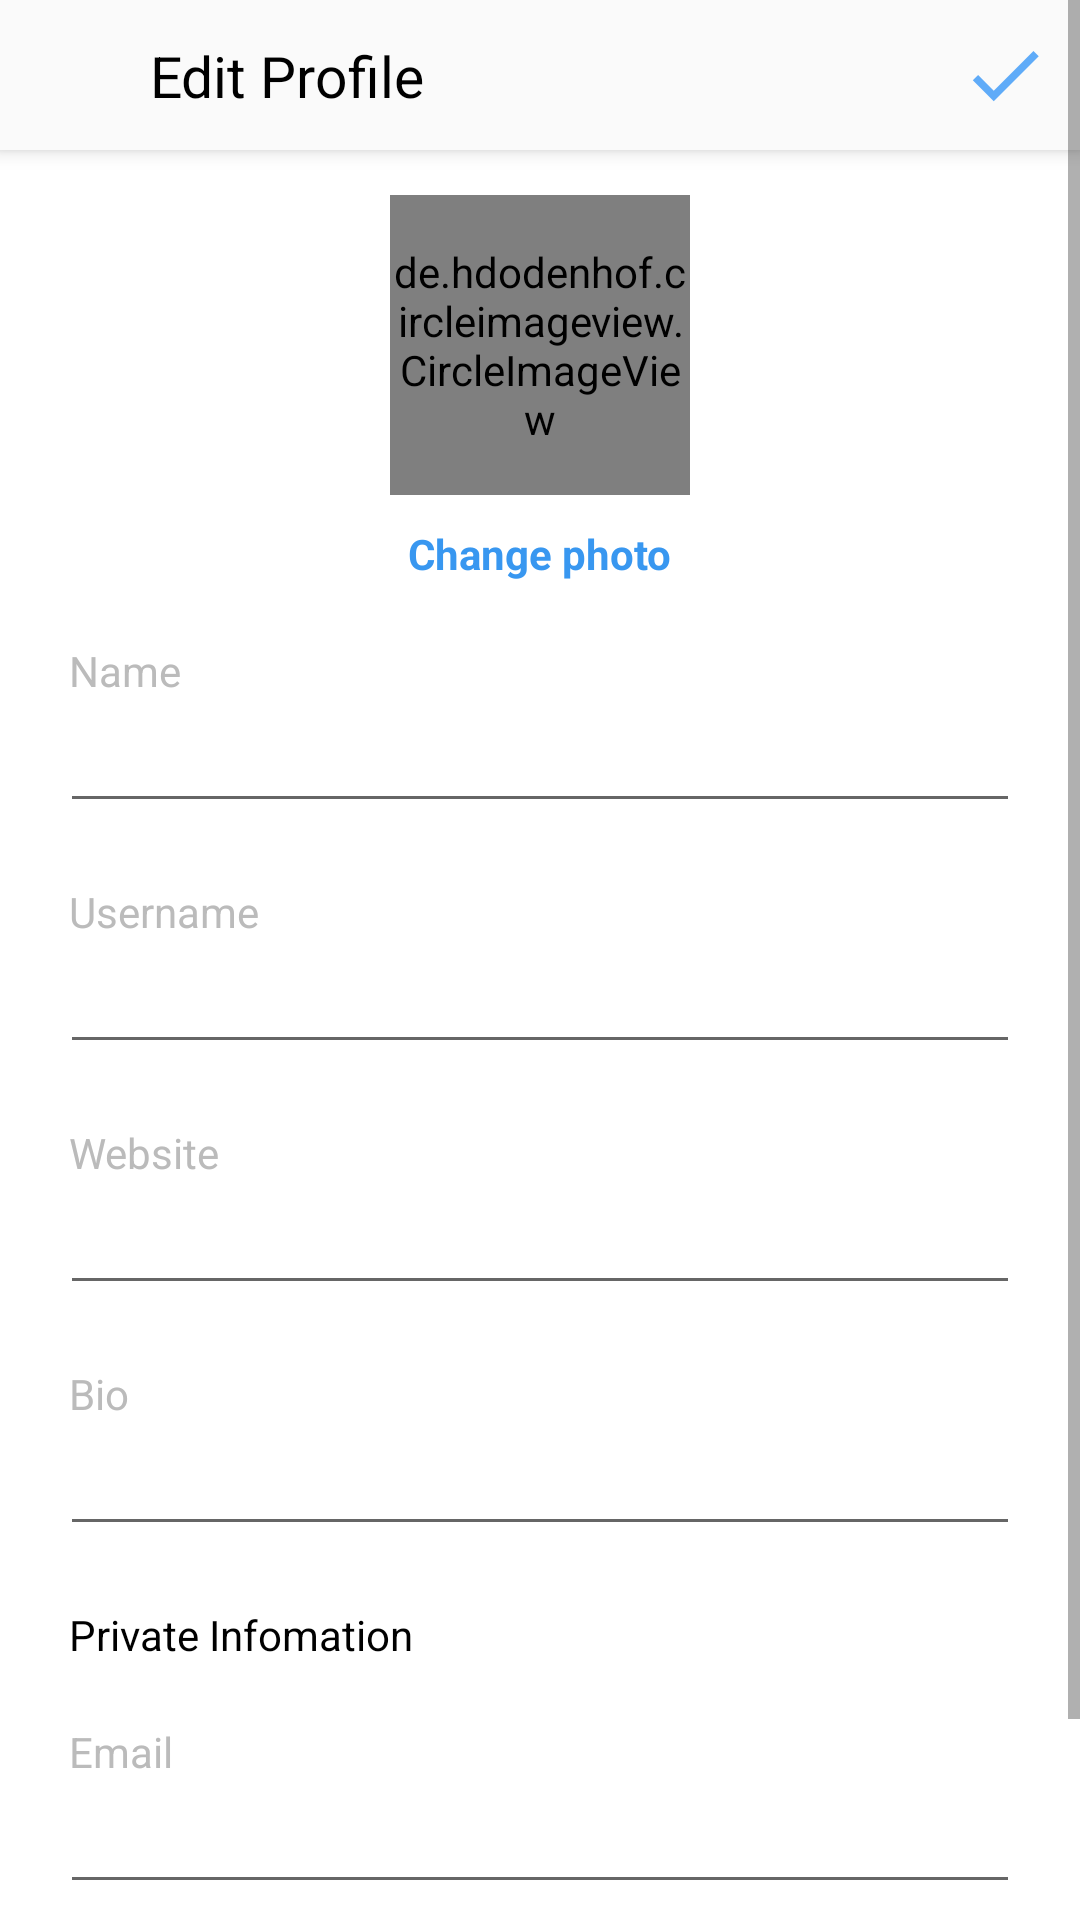

Point at icon controls on the screen. Image size 1080px×1920px, points as (x=x, y=y).
check: (x=1026, y=75)
